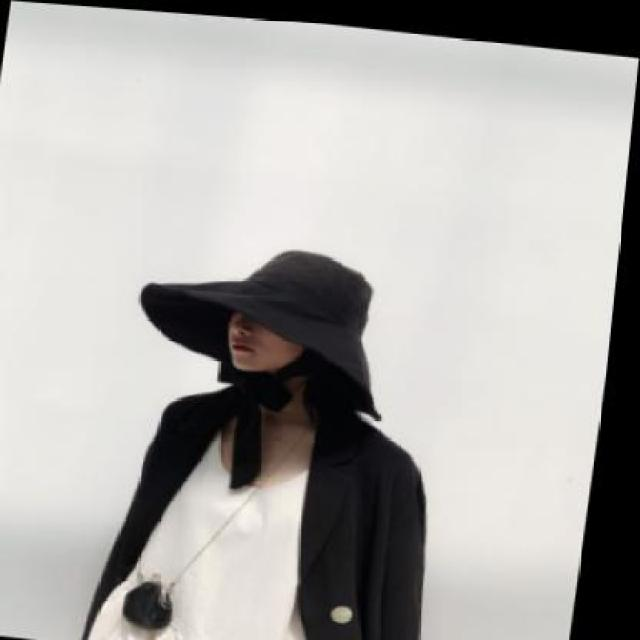hat: (131, 209, 417, 420)
